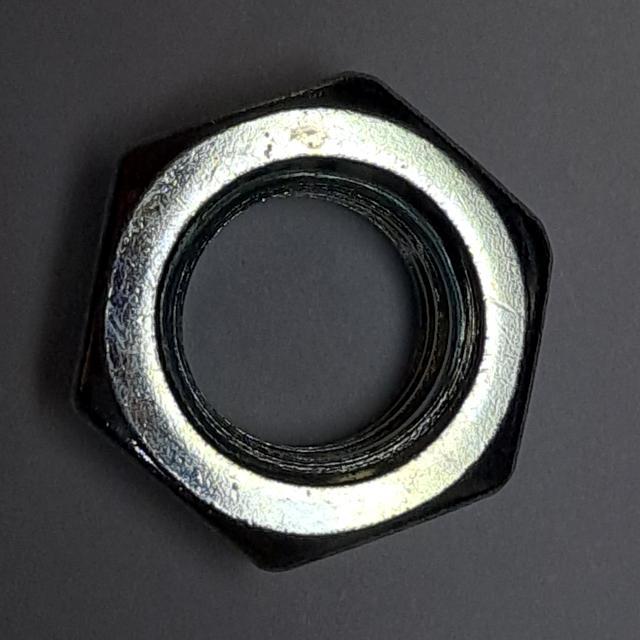Excellent: (57, 55, 566, 589)
